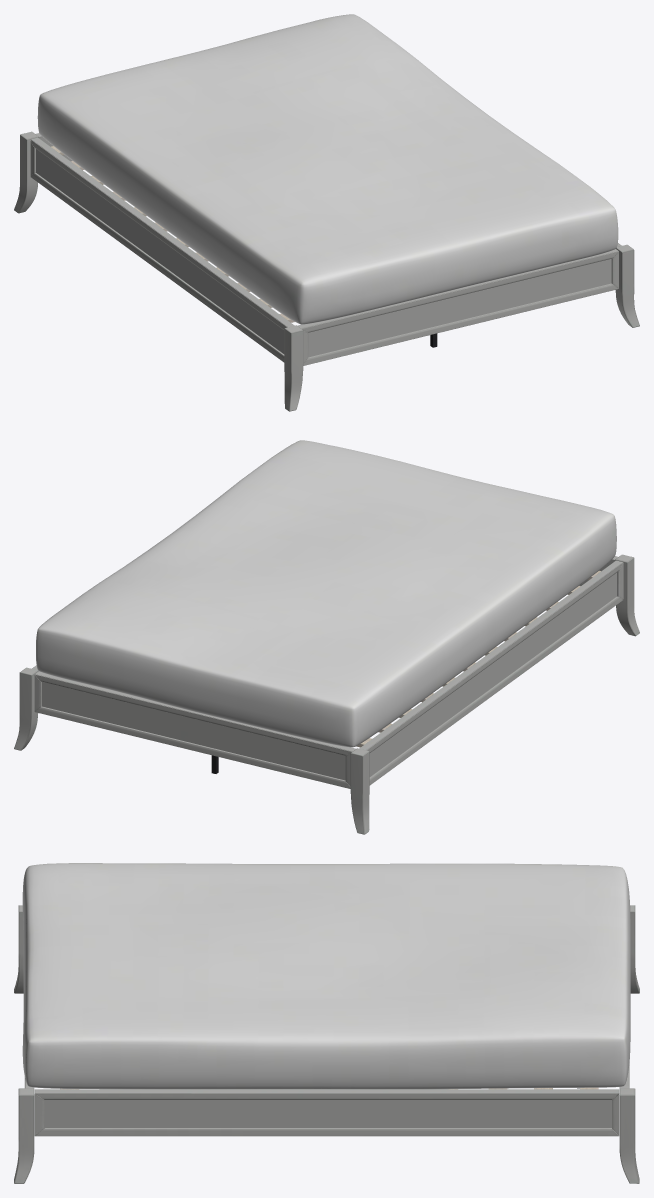
Rendered from abo-B084ZB8Z79.glb.
3 renders of one model, top to bottom at view 1: azimuth 30°, elevation 25°; view 2: azimuth 150°, elevation 25°; view 3: azimuth 270°, elevation 25°, orthographic. The views are drawn at different scales.
Size of the model in its own units: 1.46 by 0.51 by 1.98.
Materials: 1 (1 with a texture image).
